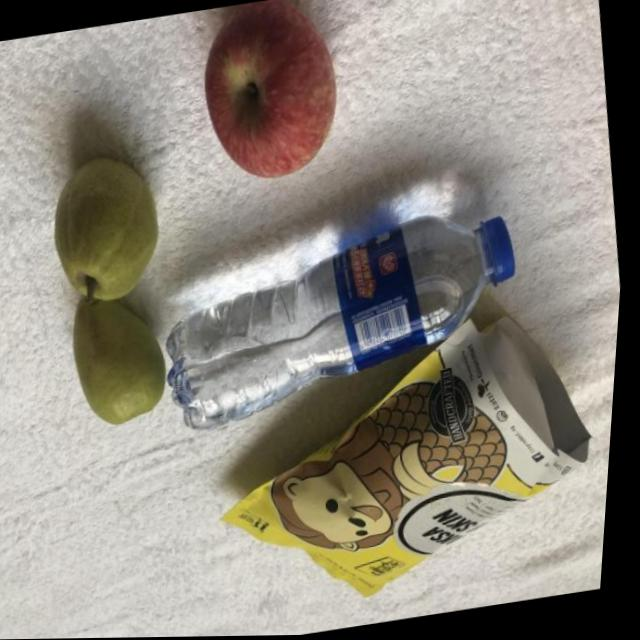Apple: (179, 0, 361, 196)
